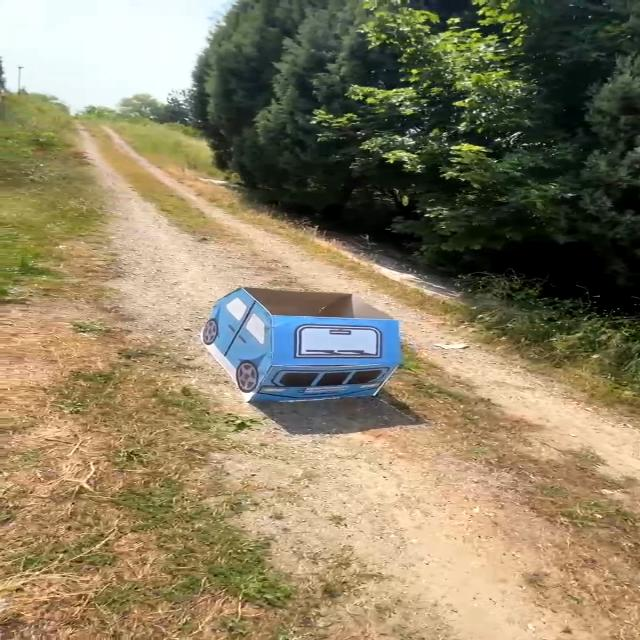blue_car: (158, 259, 419, 414)
